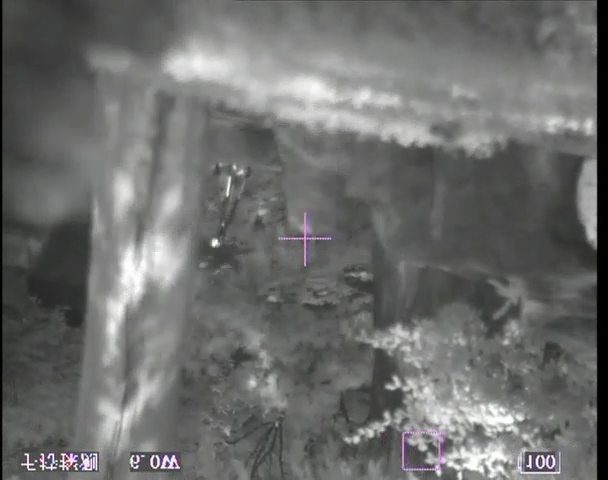my: (210, 236, 220, 249)
